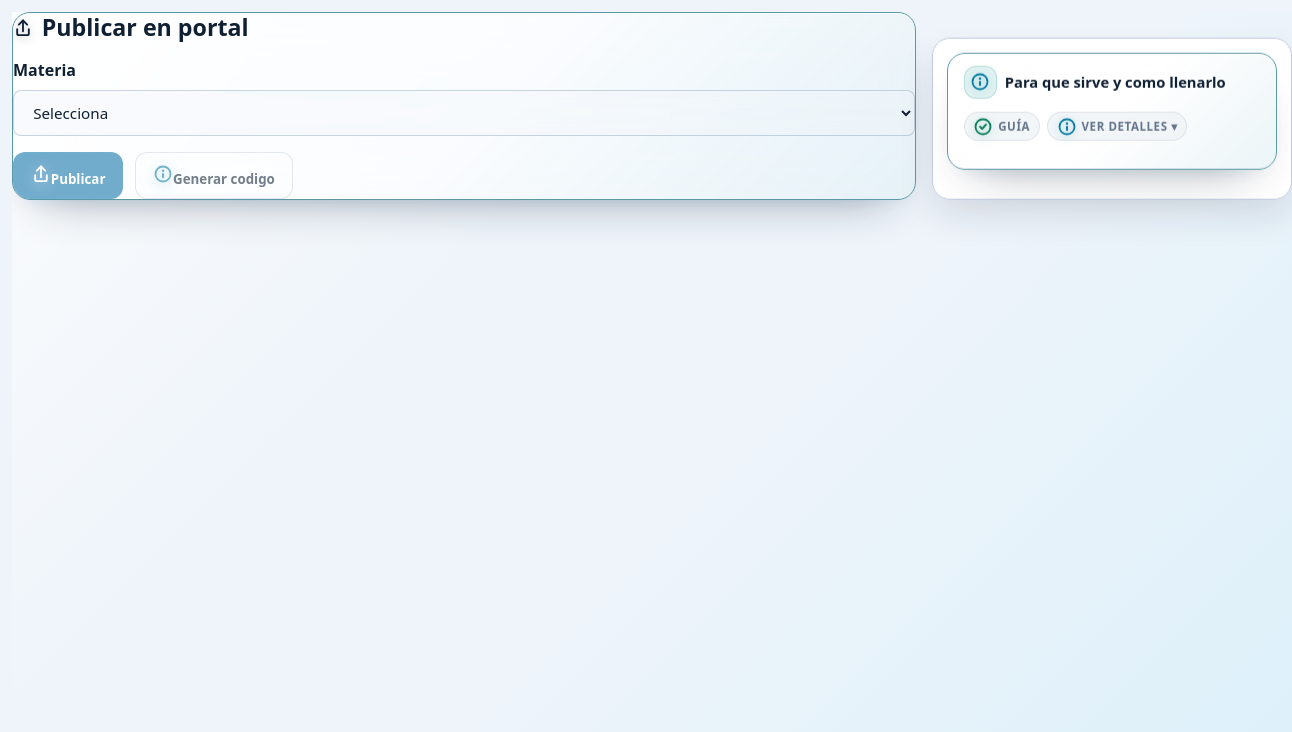
Test case: SeccionPublicar › muestra mensaje de error cuando falla la publicación
Select "Física Cuántica (ID: per-1)" in the dropdown labelled "Materia" at (464, 113), box [13,90,915,136]
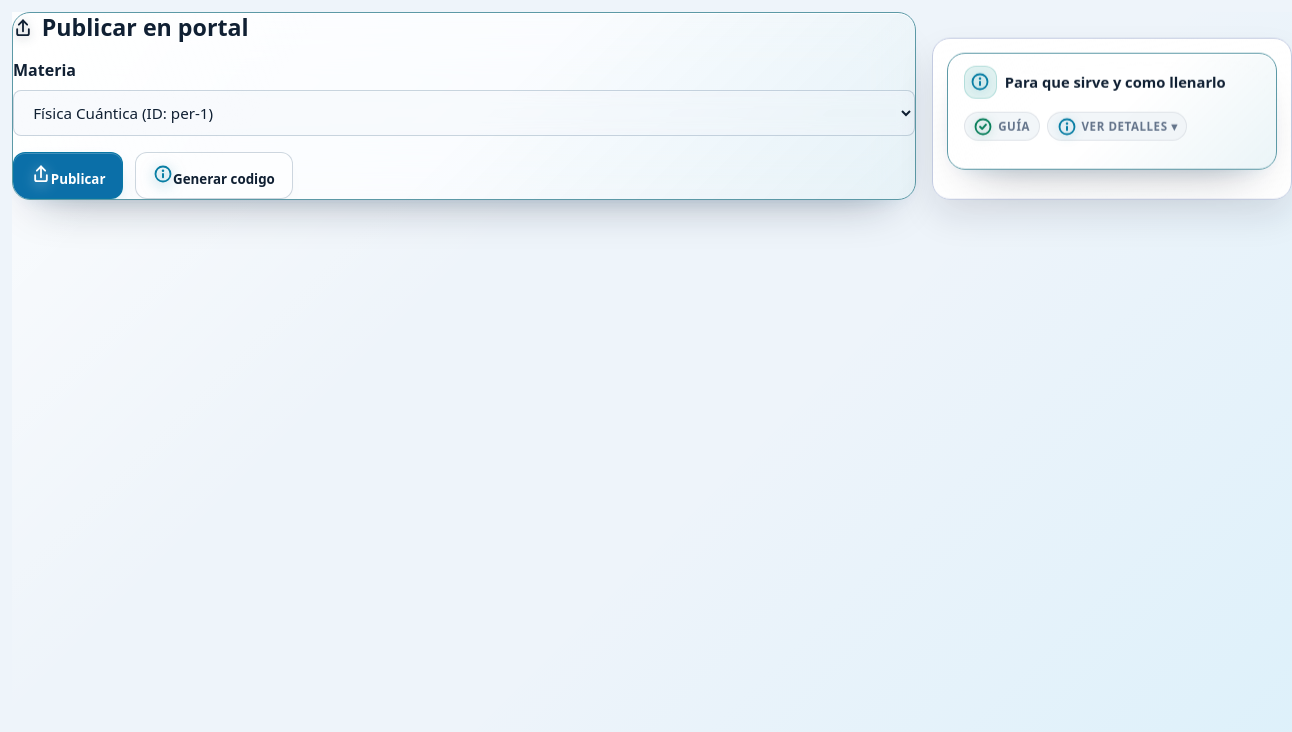
Click the button "Publicar" at (68, 176), box [13,152,123,199]
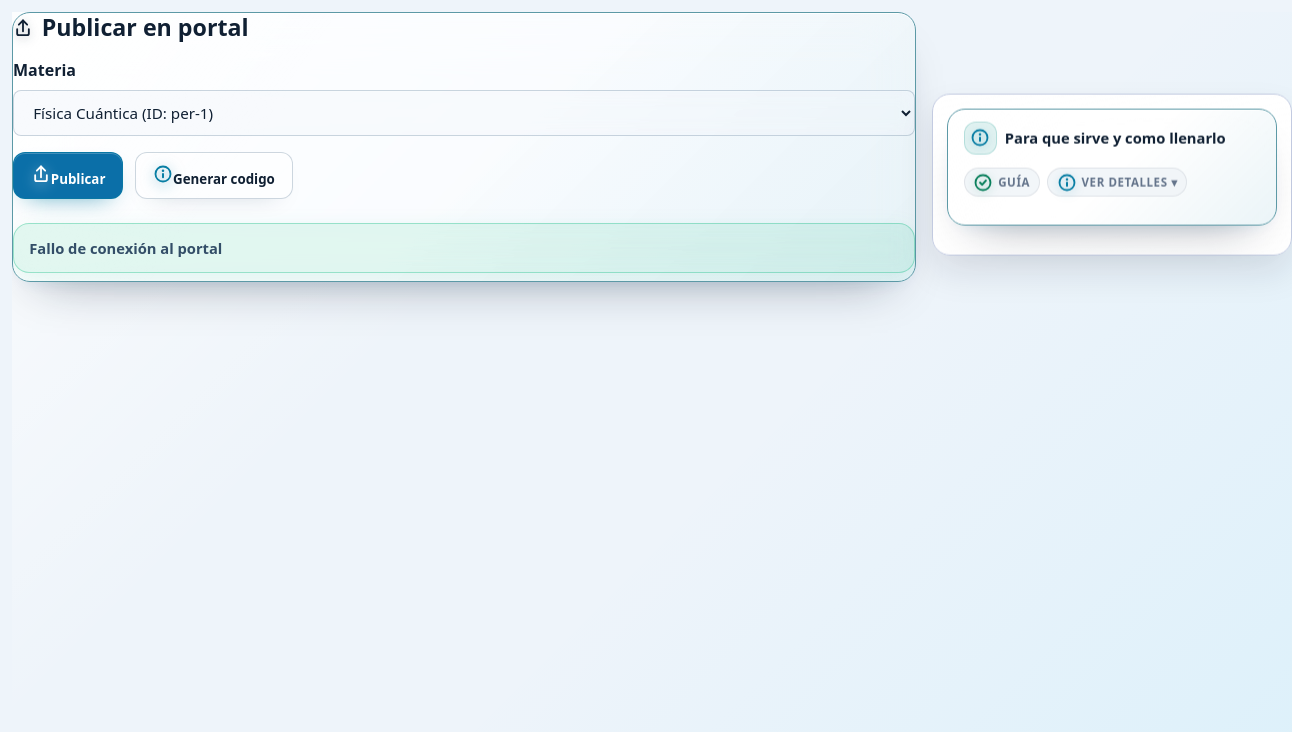
Check: the message reads "Fallo de conexión al portal", box [29,238,222,258]
